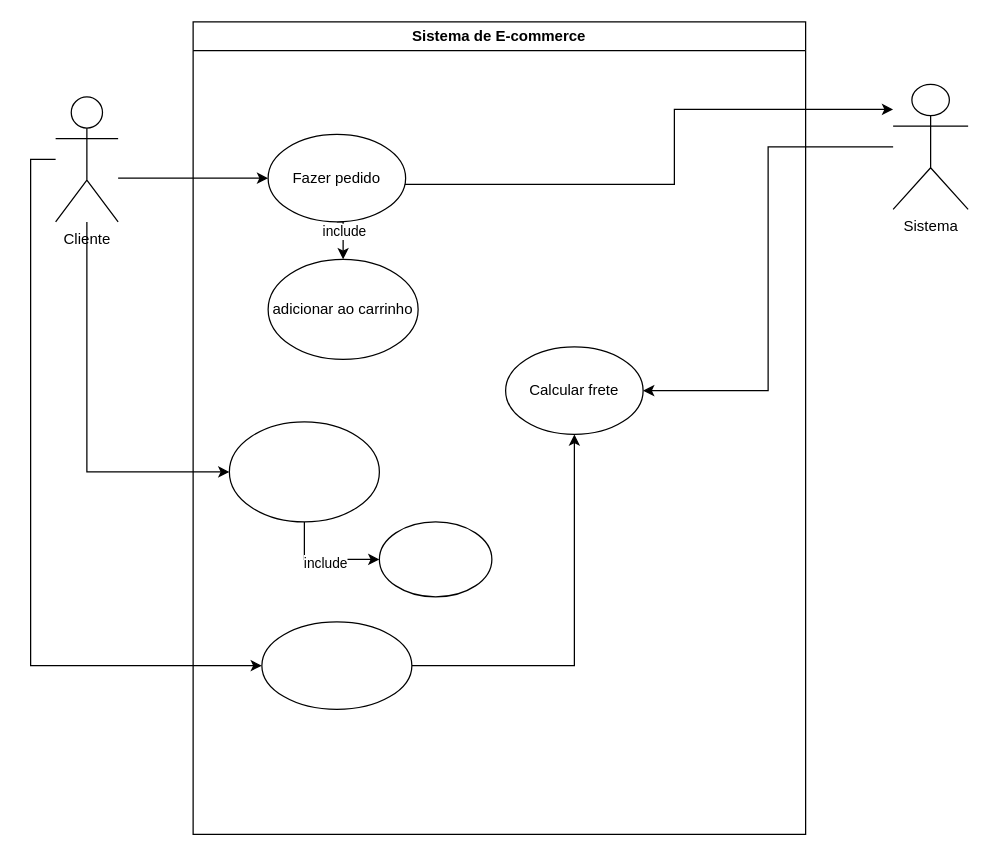
This 990x856 diagram has some shape labels left out. Each missing label, with the centre of its shape:
colocar endereço: the point at 336,665
Finalizar compra: the point at 303,471
Selecionar método de pagamento: the point at 435,559
